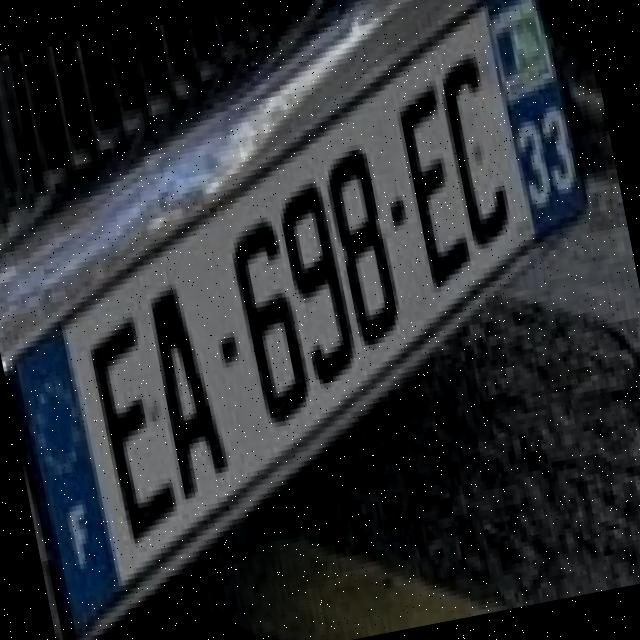EU: (7, 0, 592, 638)
France: (5, 332, 126, 638)
